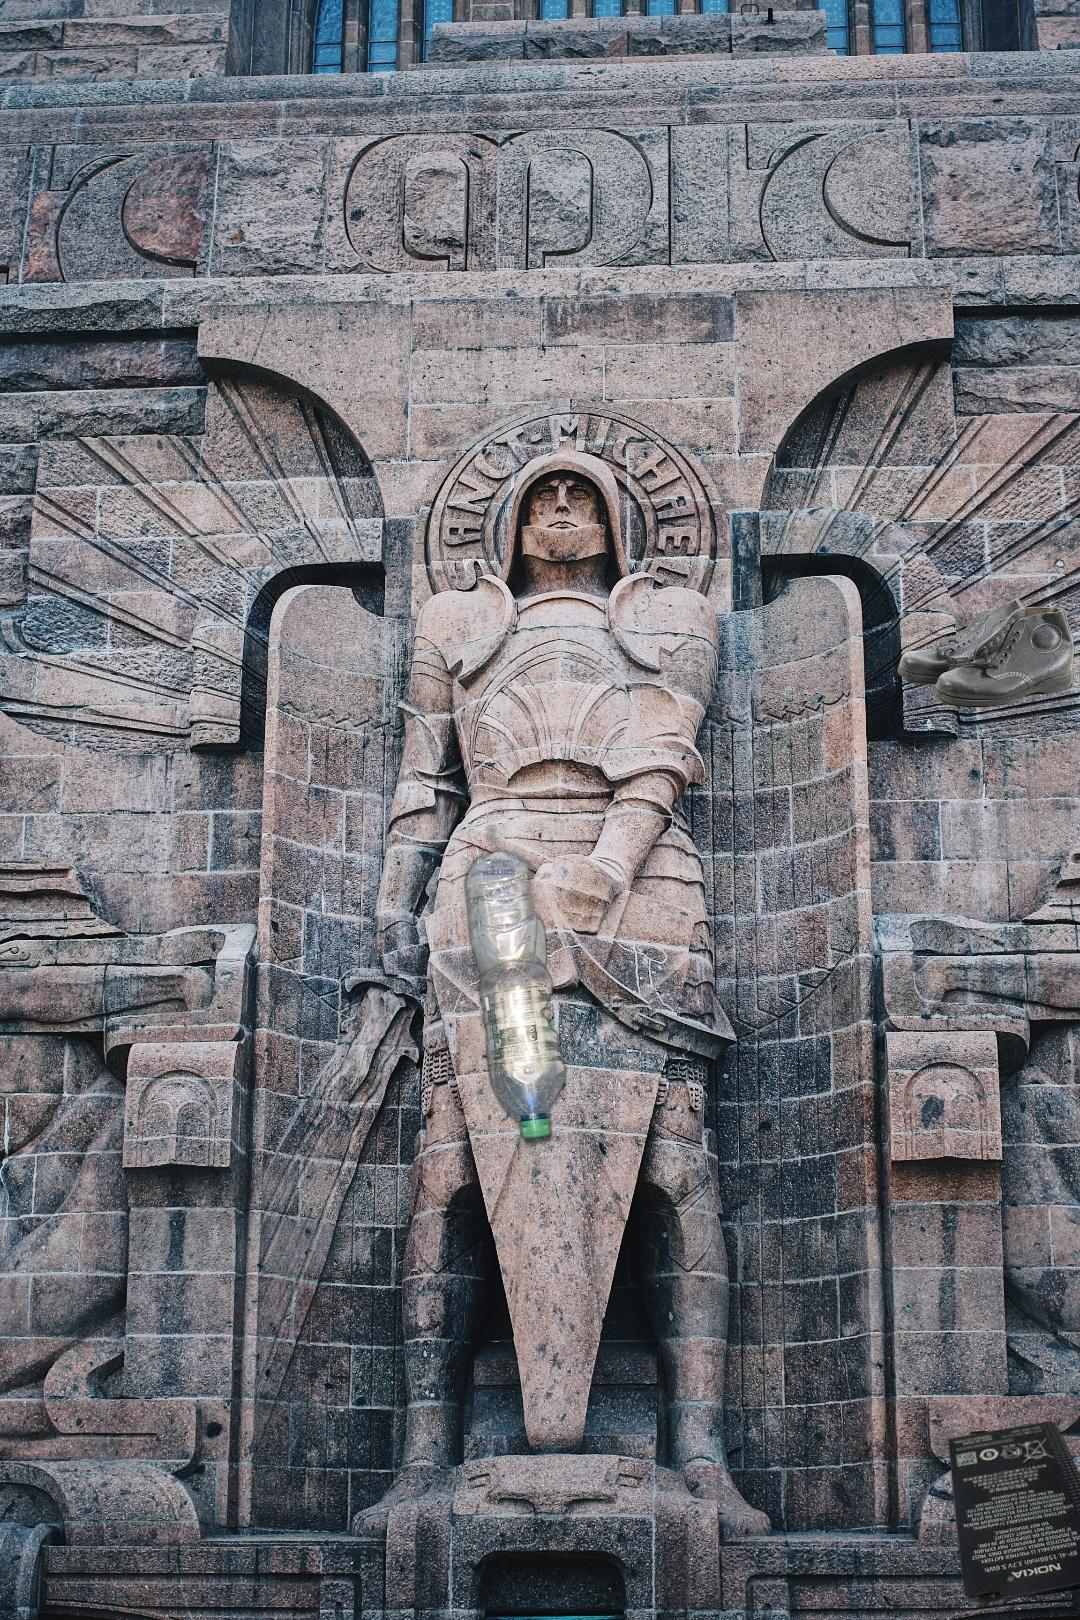battery: (946, 1419, 1080, 1612)
plastic-bottles: (460, 812, 571, 1170)
shoes: (894, 595, 1078, 710)
